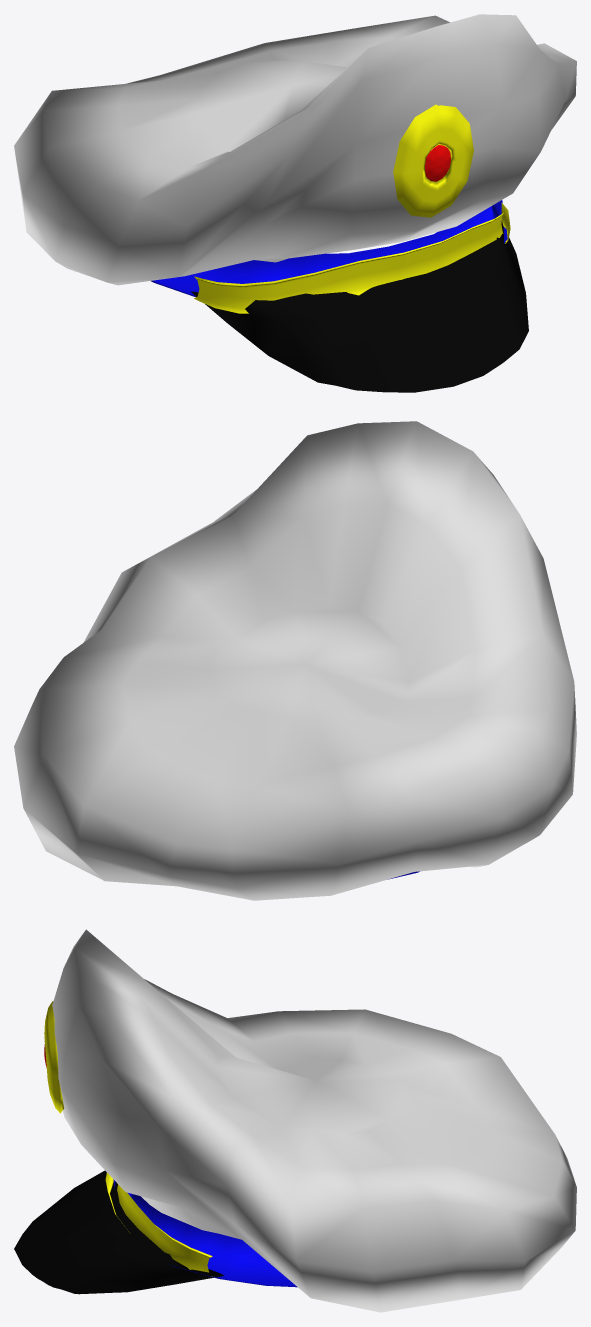
File: hat.gltf
The picture shows the model from 3 angles, top to bottom: view 1: azimuth 30°, elevation 25°; view 2: azimuth 150°, elevation 25°; view 3: azimuth 270°, elevation 25°; orthographic projection. The views are drawn at different scales.
Parts seen in each view (by area): view 1: object2, object5, object3, object0, object4, object1; view 2: object2; view 3: object2, object5, object4, object3, object0.
Boxes of the visible parts, x1,y1,x2,y2 form: object2: (14, 14, 576, 285); object5: (191, 221, 528, 392); object3: (194, 202, 510, 313); object0: (393, 104, 473, 217); object4: (151, 200, 507, 296); object1: (425, 145, 450, 181); object2: (14, 421, 576, 900); object2: (52, 929, 576, 1312); object5: (14, 1170, 223, 1294); object4: (113, 1179, 297, 1287); object3: (105, 1173, 212, 1276); object0: (44, 1001, 64, 1113).
Size of the model in its own units: 4.39 by 2.86 by 4.67.
